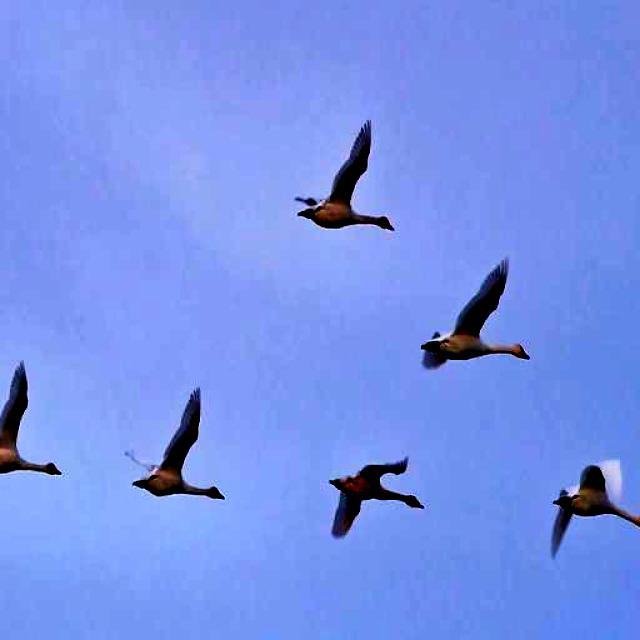airplane: (282, 105, 409, 259), (110, 374, 240, 514), (409, 255, 532, 381), (544, 445, 640, 566), (319, 449, 425, 554), (0, 359, 70, 490)
